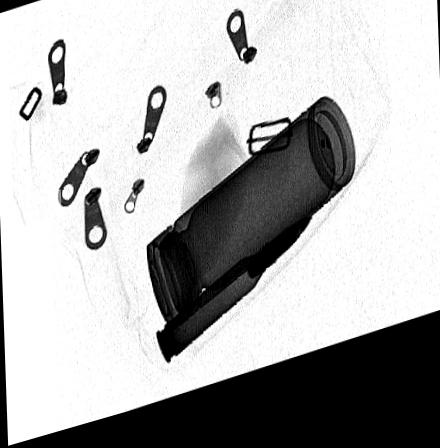Bullet: (155, 229, 315, 373)
